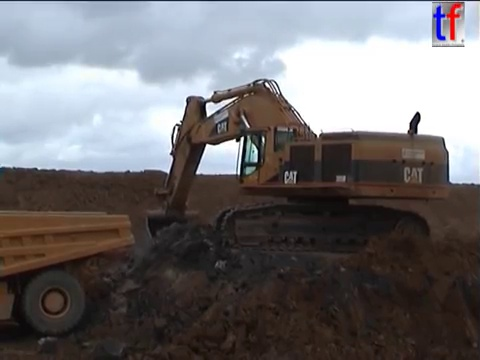excavator: (131, 74, 452, 266)
truck: (1, 207, 137, 337)
